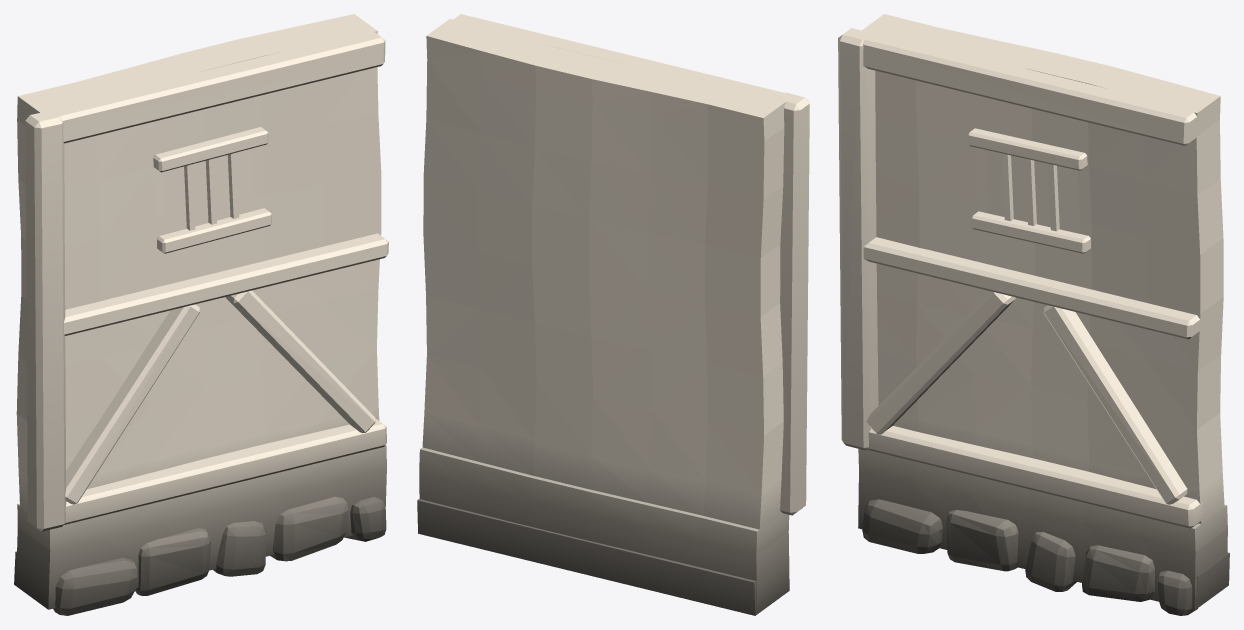
The model's file is SM_VK_Wall_Barn.fbx.
3 views of the same model, side by side, from view 1: azimuth 30°, elevation 25°; view 2: azimuth 150°, elevation 25°; view 3: azimuth 330°, elevation 25° (orthographic).
Visible parts, largest first — view 1: SM_VK_Wall_Barn.001; view 2: SM_VK_Wall_Barn.001; view 3: SM_VK_Wall_Barn.001.
Part boxes in pixels (bbox=[...]): SM_VK_Wall_Barn.001: bbox=[14, 14, 388, 615]; SM_VK_Wall_Barn.001: bbox=[417, 14, 809, 615]; SM_VK_Wall_Barn.001: bbox=[838, 14, 1229, 615].
Size of the model in its own units: 3.16 by 4.31 by 0.6906.
